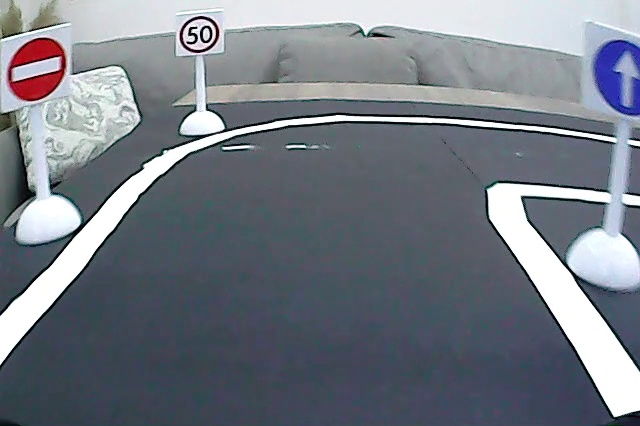do not enter: (5, 35, 69, 103)
speed limit 50: (177, 14, 222, 55)
